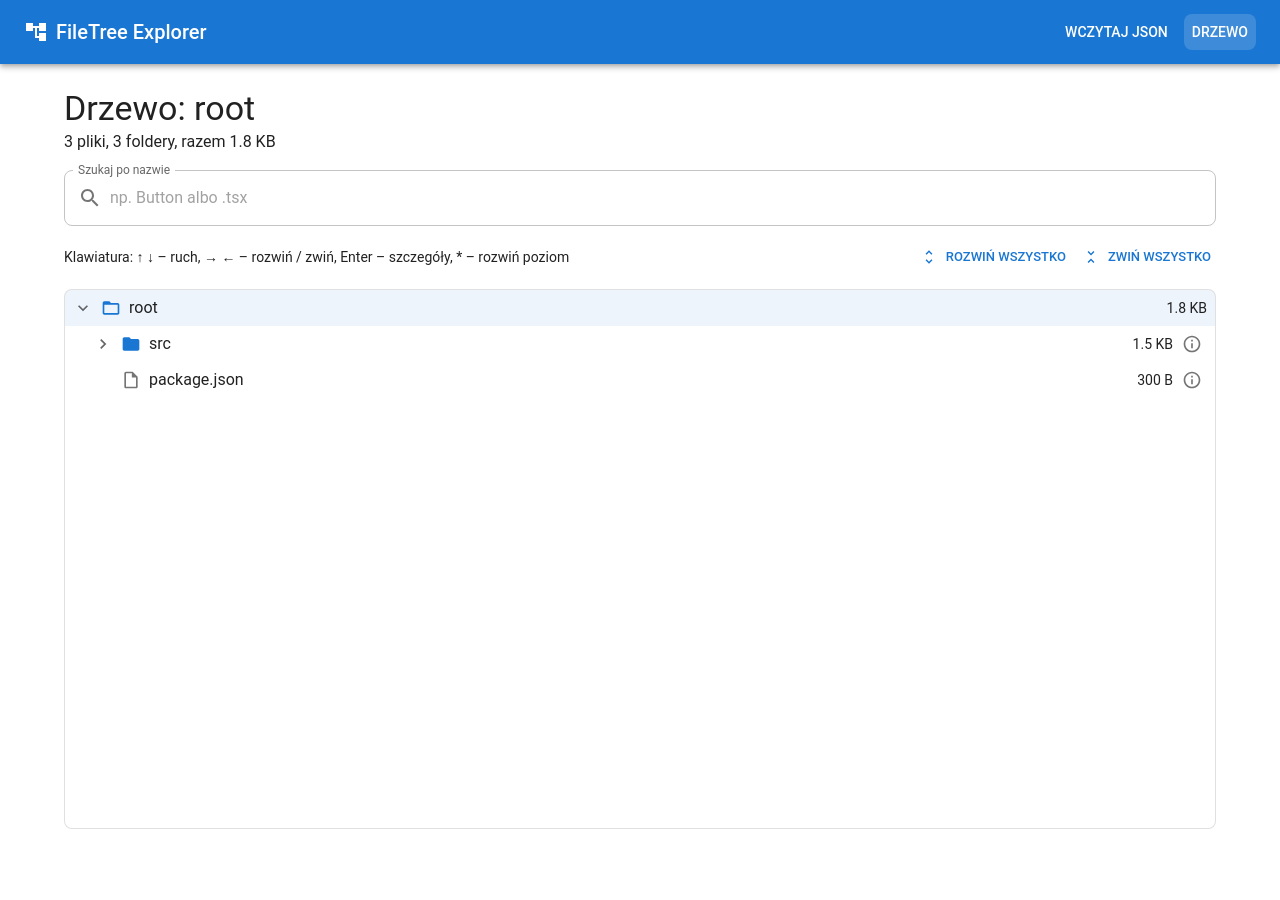
Test case: search › saves the query at once on Enter and keeps other parameters
Type "index" into the search field labelled "Szukaj po nazwie" at (663, 198), box [110, 170, 1216, 226]
Then press Enter
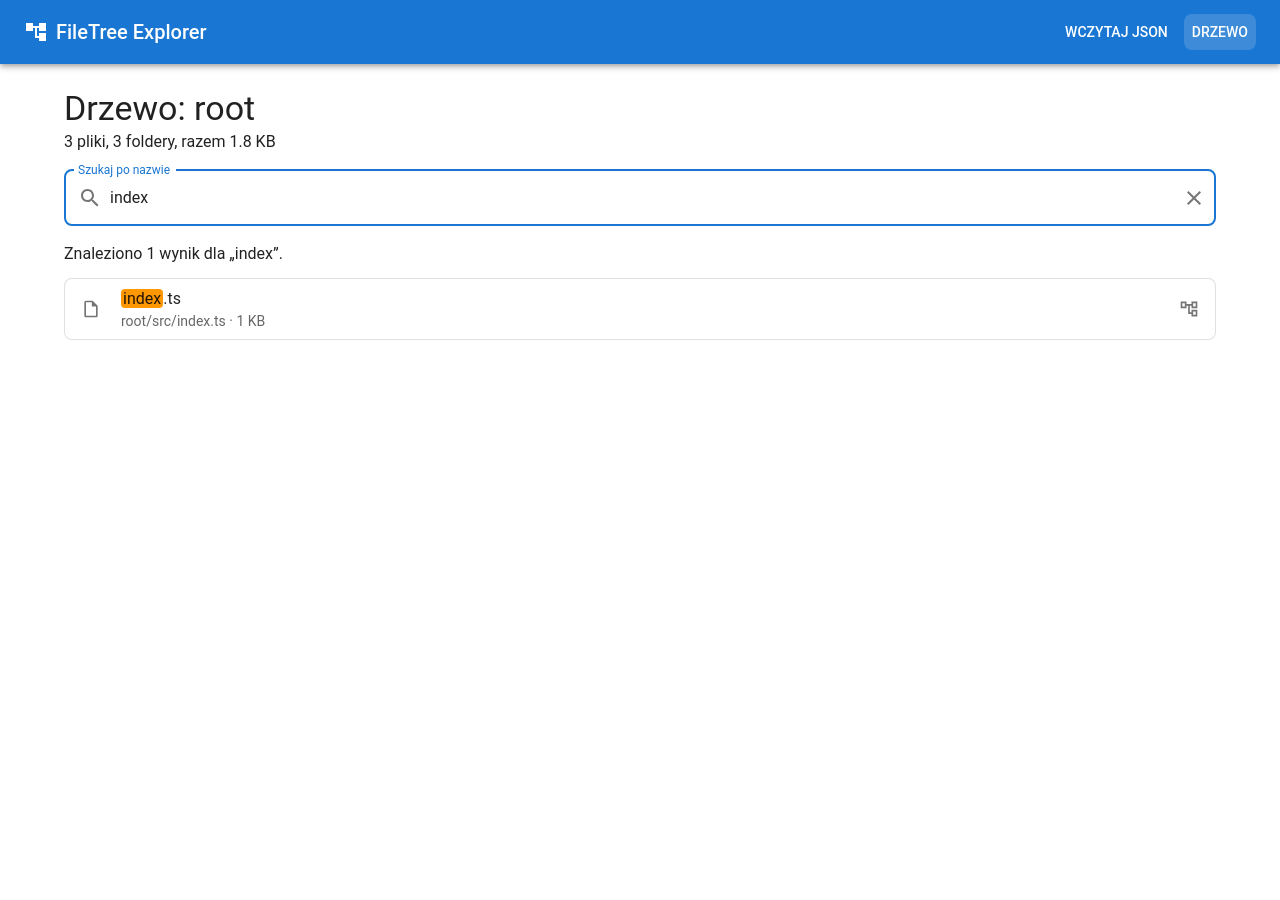
expect the text "index" is shown: met, box [121, 289, 163, 308]
